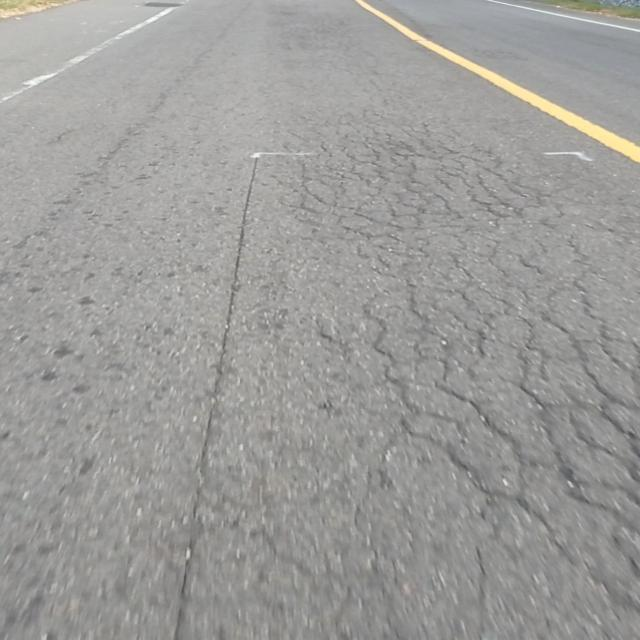Retak Buaya: (277, 144, 640, 640)
